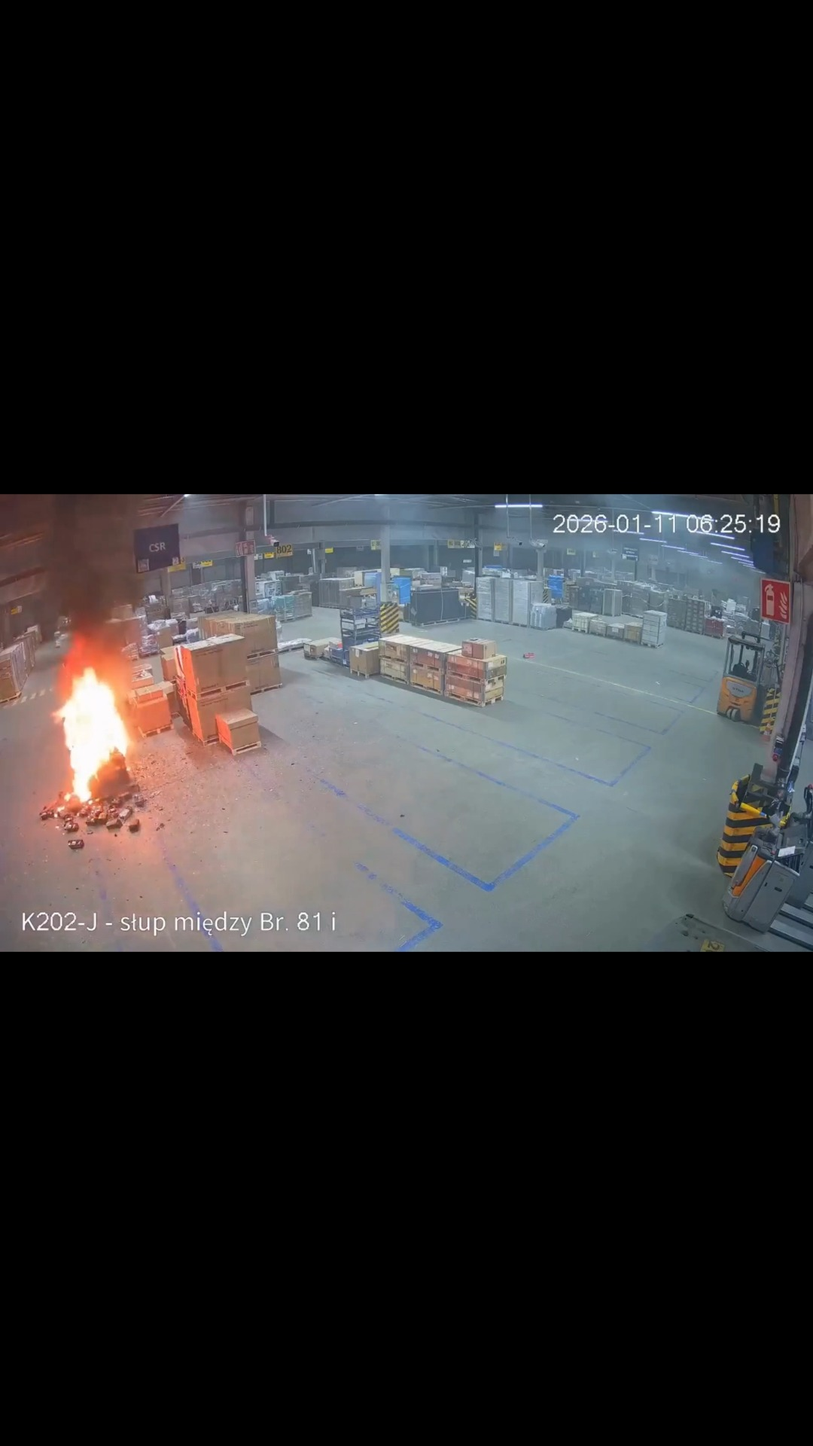fire: (50, 631, 134, 807)
smoke: (29, 495, 162, 676)
